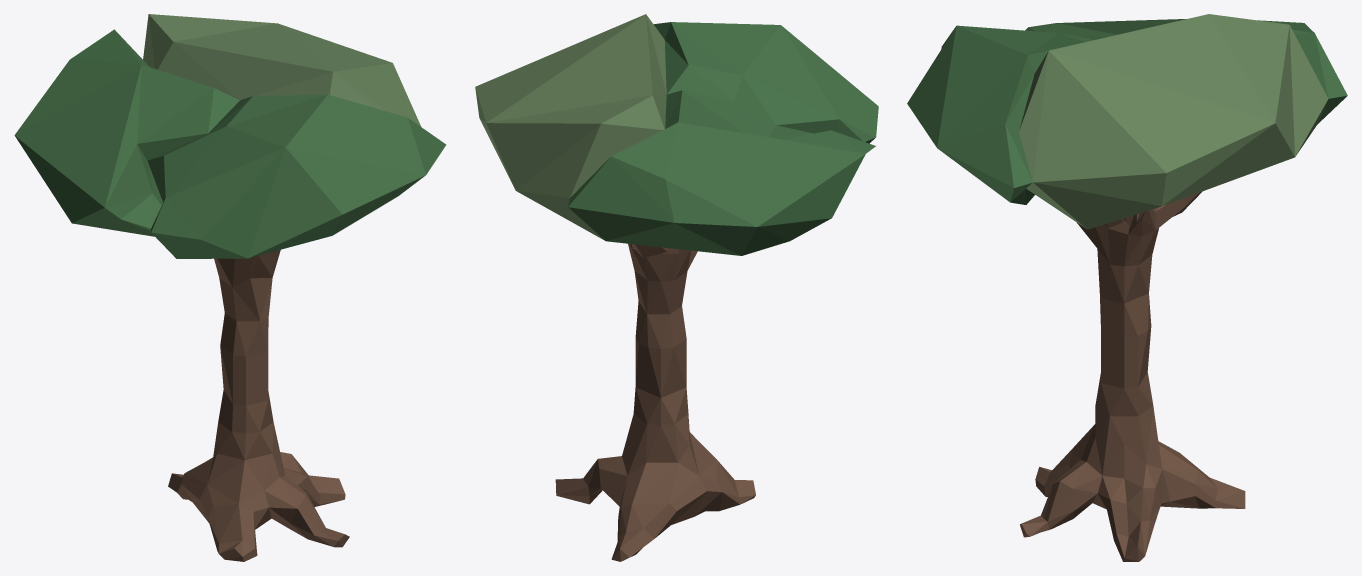
File: _tree_11.fbx
3 renders of one model, left to right at view 1: azimuth 30°, elevation 25°; view 2: azimuth 150°, elevation 25°; view 3: azimuth 270°, elevation 25°, orthographic. The views are drawn at different scales.
Parts seen in each view (by area): view 1: tree_11; view 2: tree_11; view 3: tree_11.
Part boxes in pixels (<box>): tree_11: <box>14,14,446,561</box>; tree_11: <box>475,14,878,561</box>; tree_11: <box>907,14,1347,561</box>.
Bounding box in the file's own units: 763 × 1005 × 817.
